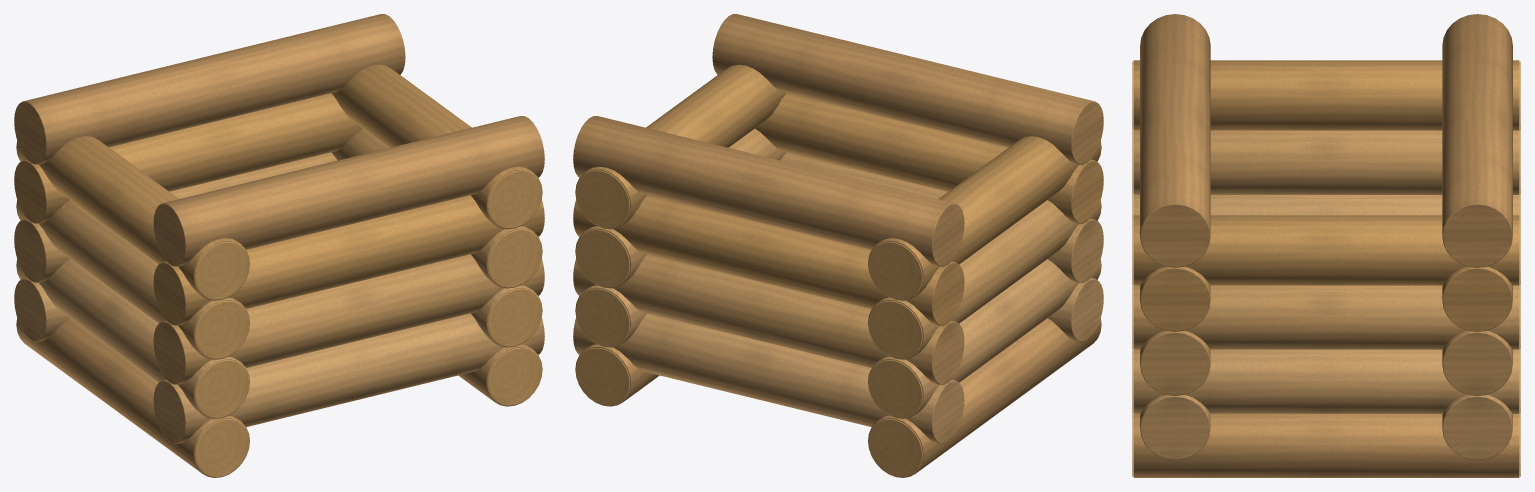
The model's file is 2-crossed-log-courses-2.fbx.
3 renders of one model, left to right at view 1: azimuth 30°, elevation 25°; view 2: azimuth 150°, elevation 25°; view 3: azimuth 270°, elevation 25°, orthographic. The views are drawn at different scales.
Visible parts, largest first — view 1: crossed-log-courses-2; view 2: crossed-log-courses-2; view 3: crossed-log-courses-2.
Part boxes in pixels (x1,y1,x2,y2): crossed-log-courses-2: [14, 14, 544, 477]; crossed-log-courses-2: [573, 14, 1103, 477]; crossed-log-courses-2: [1132, 14, 1520, 477].
Bounding box in the file's own units: 7000 × 4950 × 6042.
1 material, 1 textured.
